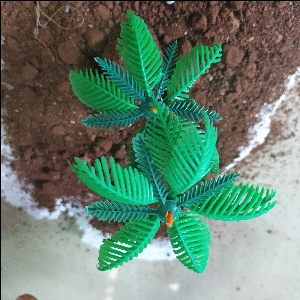plant: (77, 11, 279, 280)
